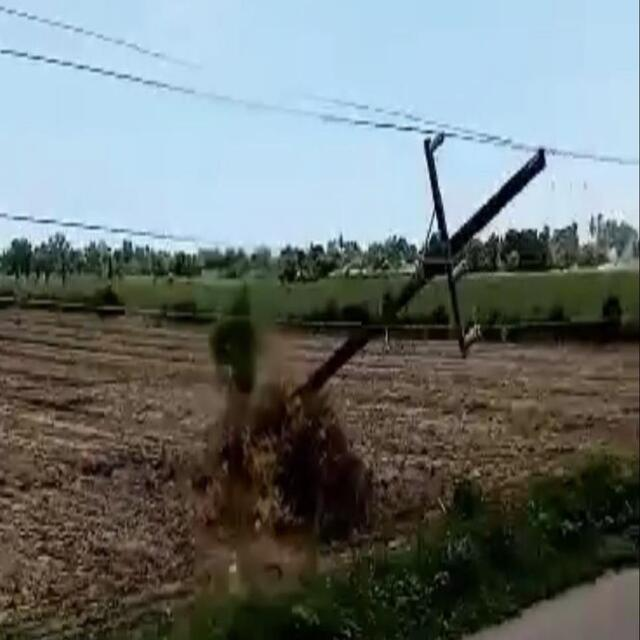Inclined Pole: (290, 124, 552, 398)
